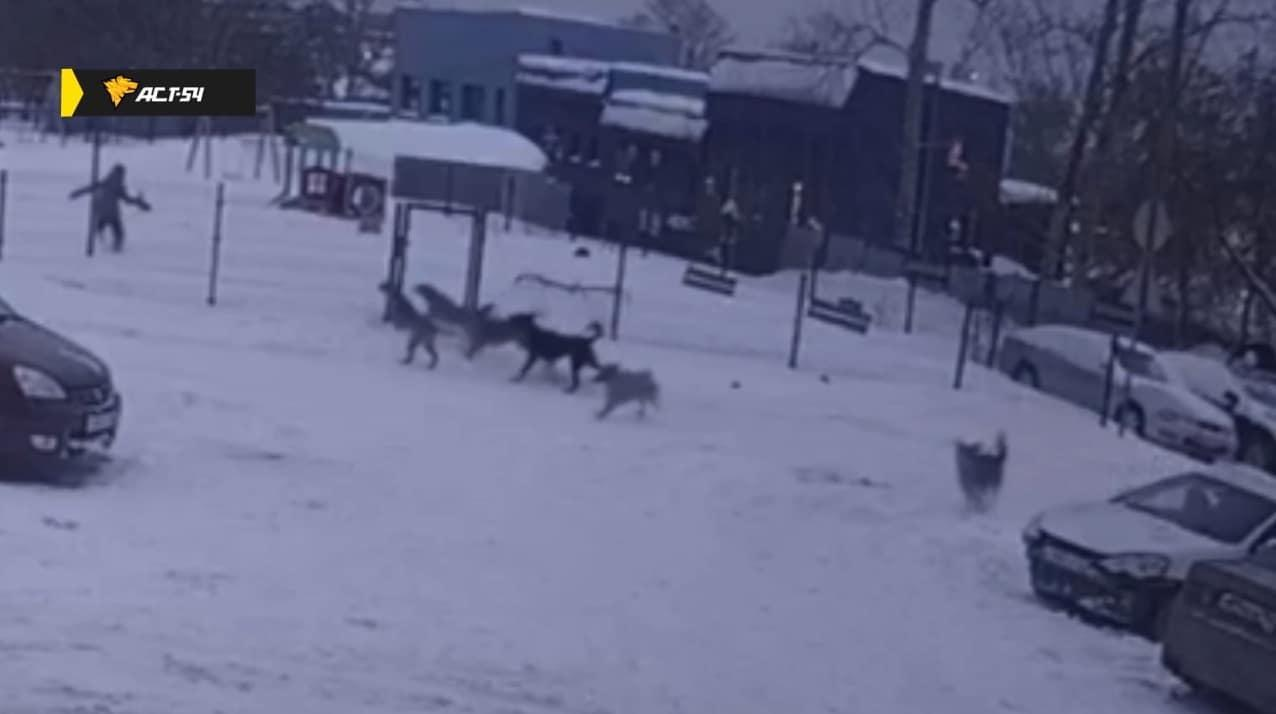dog_aggressive: (507, 312, 610, 391), (369, 279, 438, 377)
normal_dogs: (949, 426, 1014, 513), (594, 357, 669, 425), (414, 279, 500, 336), (454, 298, 529, 362)
